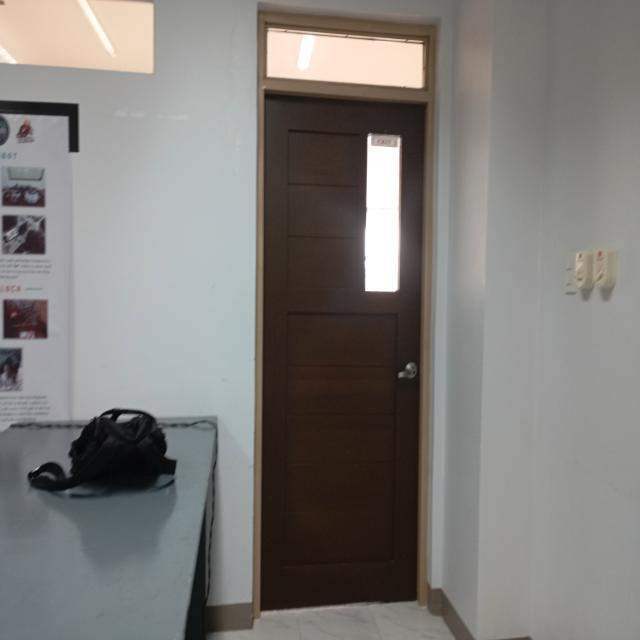door: (244, 1, 446, 624)
